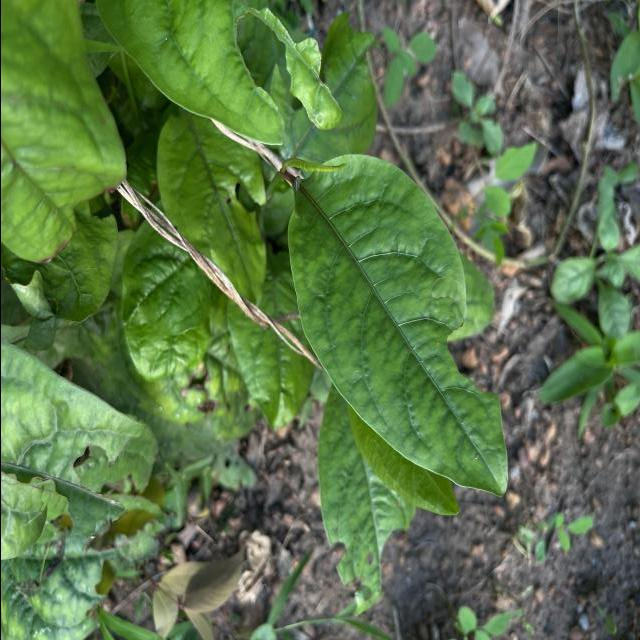Plumbago indica: (281, 145, 511, 498)
